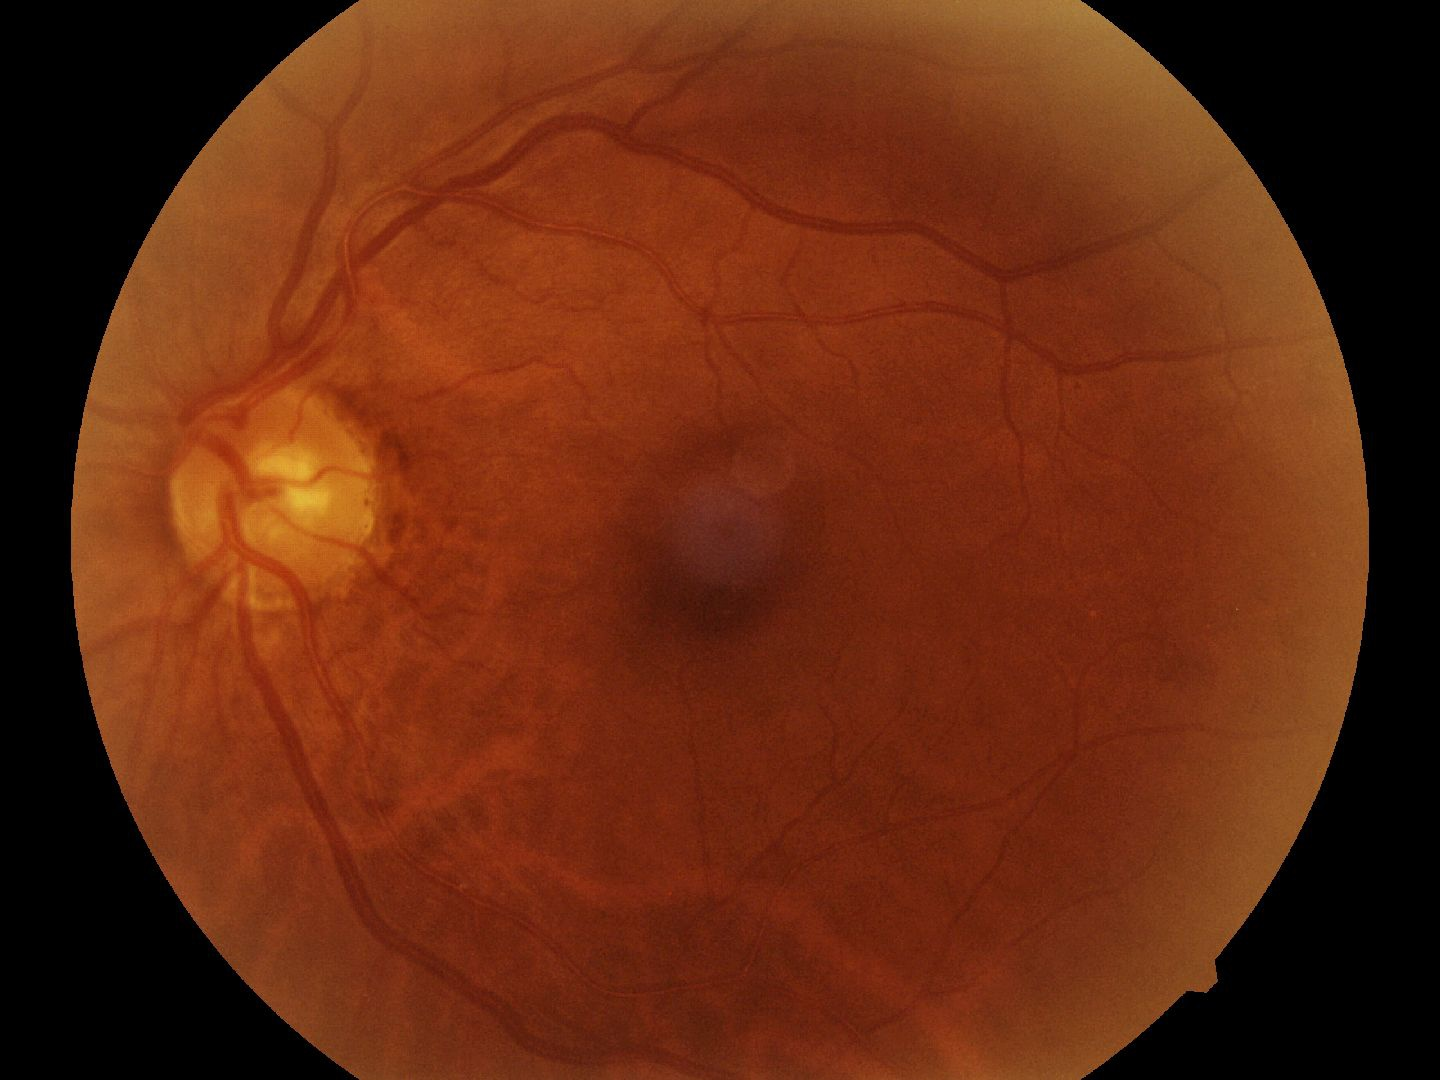Hemorrhages: (608, 419, 819, 638)
Optic-Disc: (150, 374, 381, 631)
Venules: (351, 93, 667, 230), (287, 716, 444, 974)
